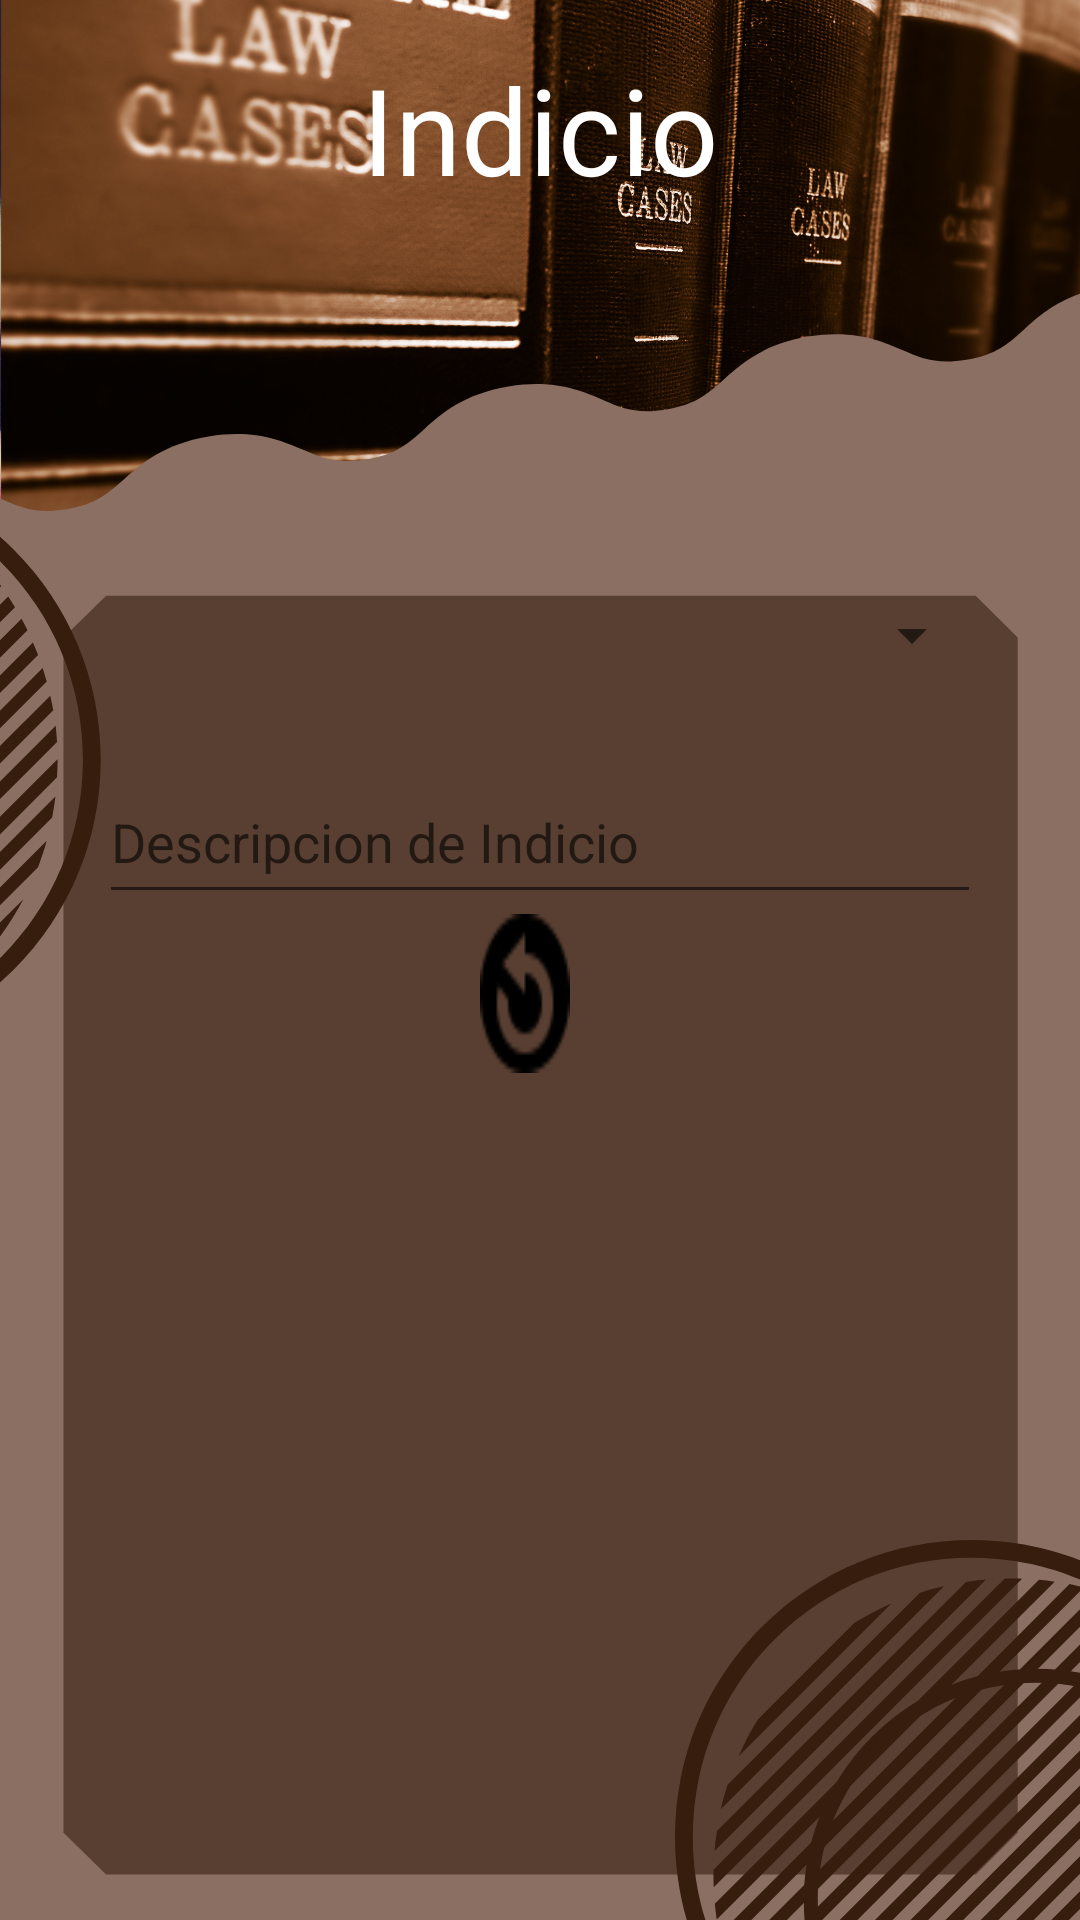

Where icons sit on this 1080px x 1920px app screen, as (x1, y1, x2, y2):
actualizar: (480, 914, 570, 1073)
